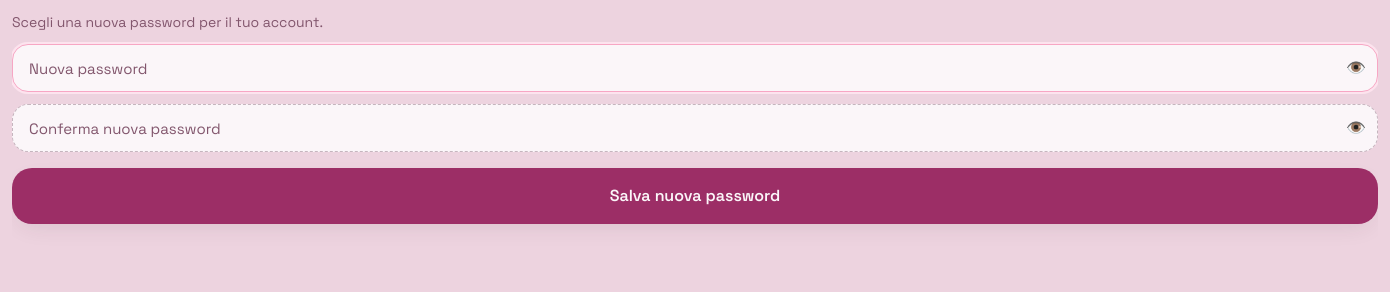
Test: ResetPasswordForm › mostra l'errore tradotto se updatePassword fallisce, senza navigare
Type "Password123" into the password field with placeholder "Nuova password" at (695, 68), box [12, 44, 1378, 92]
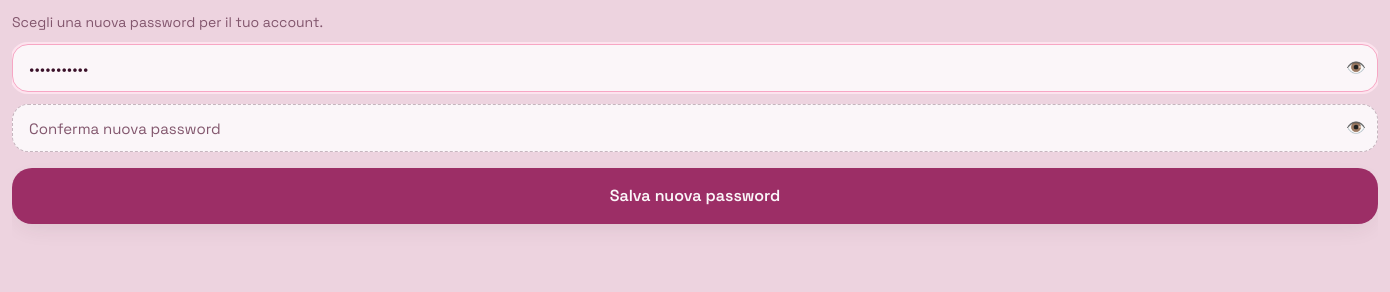
Type "Password123" into the password field with placeholder "Conferma nuova password" at (695, 128), box [12, 104, 1378, 152]
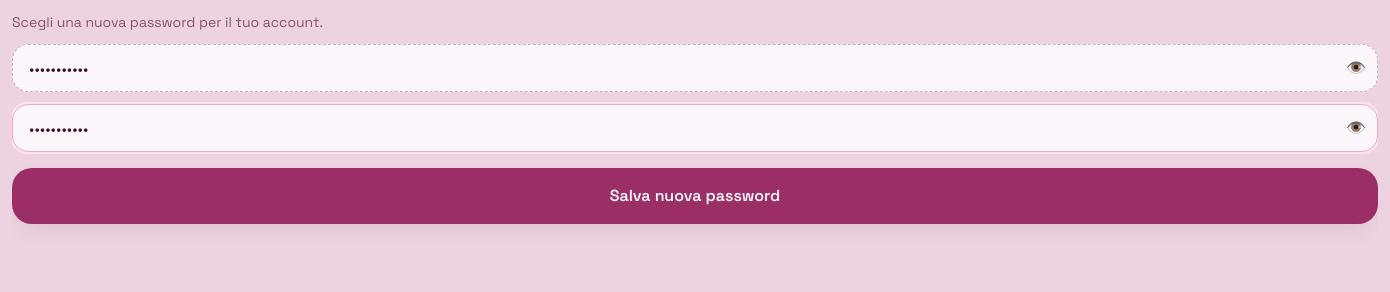
Click the button "Salva nuova password" at (695, 196), box [12, 168, 1378, 224]
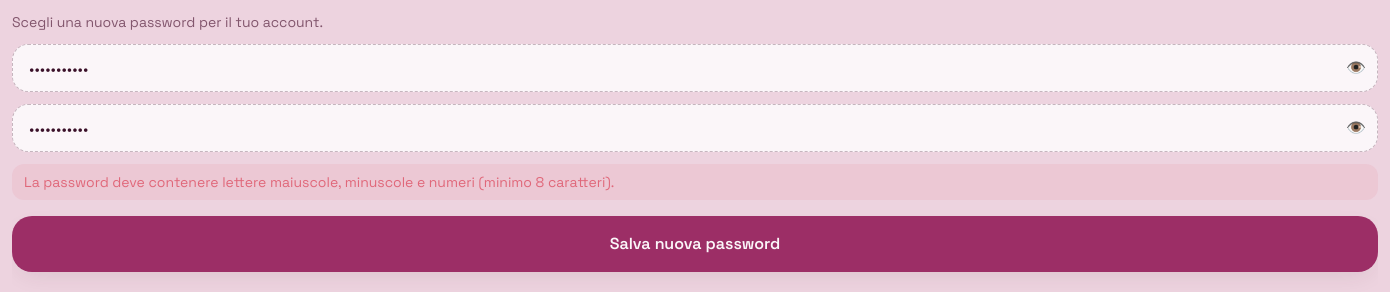
Now the text "La password deve contenere lettere maiuscole, minuscole e numeri (minimo 8 caratteri)." is shown, box [24, 173, 614, 191]
